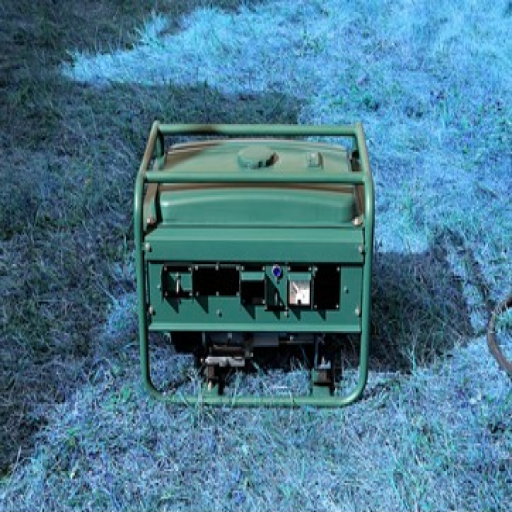portable_generator: (132, 119, 377, 408)
